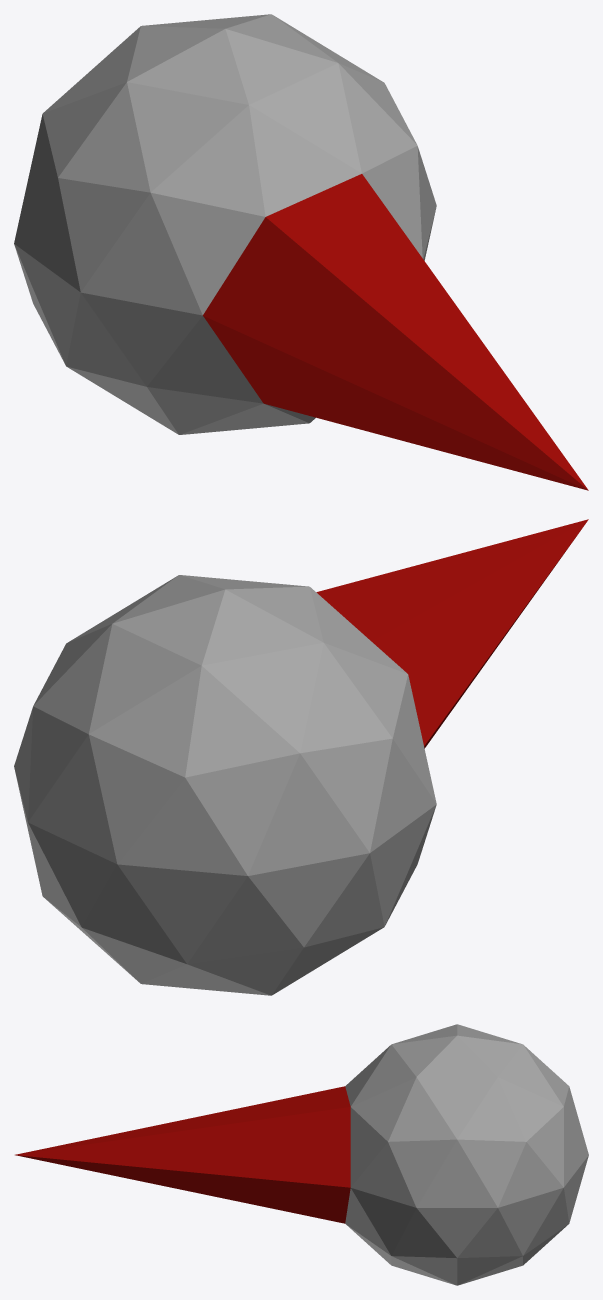
The model's file is ProtrudingObject.obj.
3 views of the same model, one above another, from view 1: azimuth 30°, elevation 25°; view 2: azimuth 150°, elevation 25°; view 3: azimuth 270°, elevation 25° (orthographic). The views are drawn at different scales.
Visible parts, largest first — view 1: ICO球; view 2: ICO球; view 3: ICO球.
Boxes of the visible parts, x1,y1,x2,y2 form: ICO球: (14,14,588,490); ICO球: (14,519,588,995); ICO球: (15,1024,588,1285).
Bounding box in the file's own units: 1.9 × 2 × 4.36.
